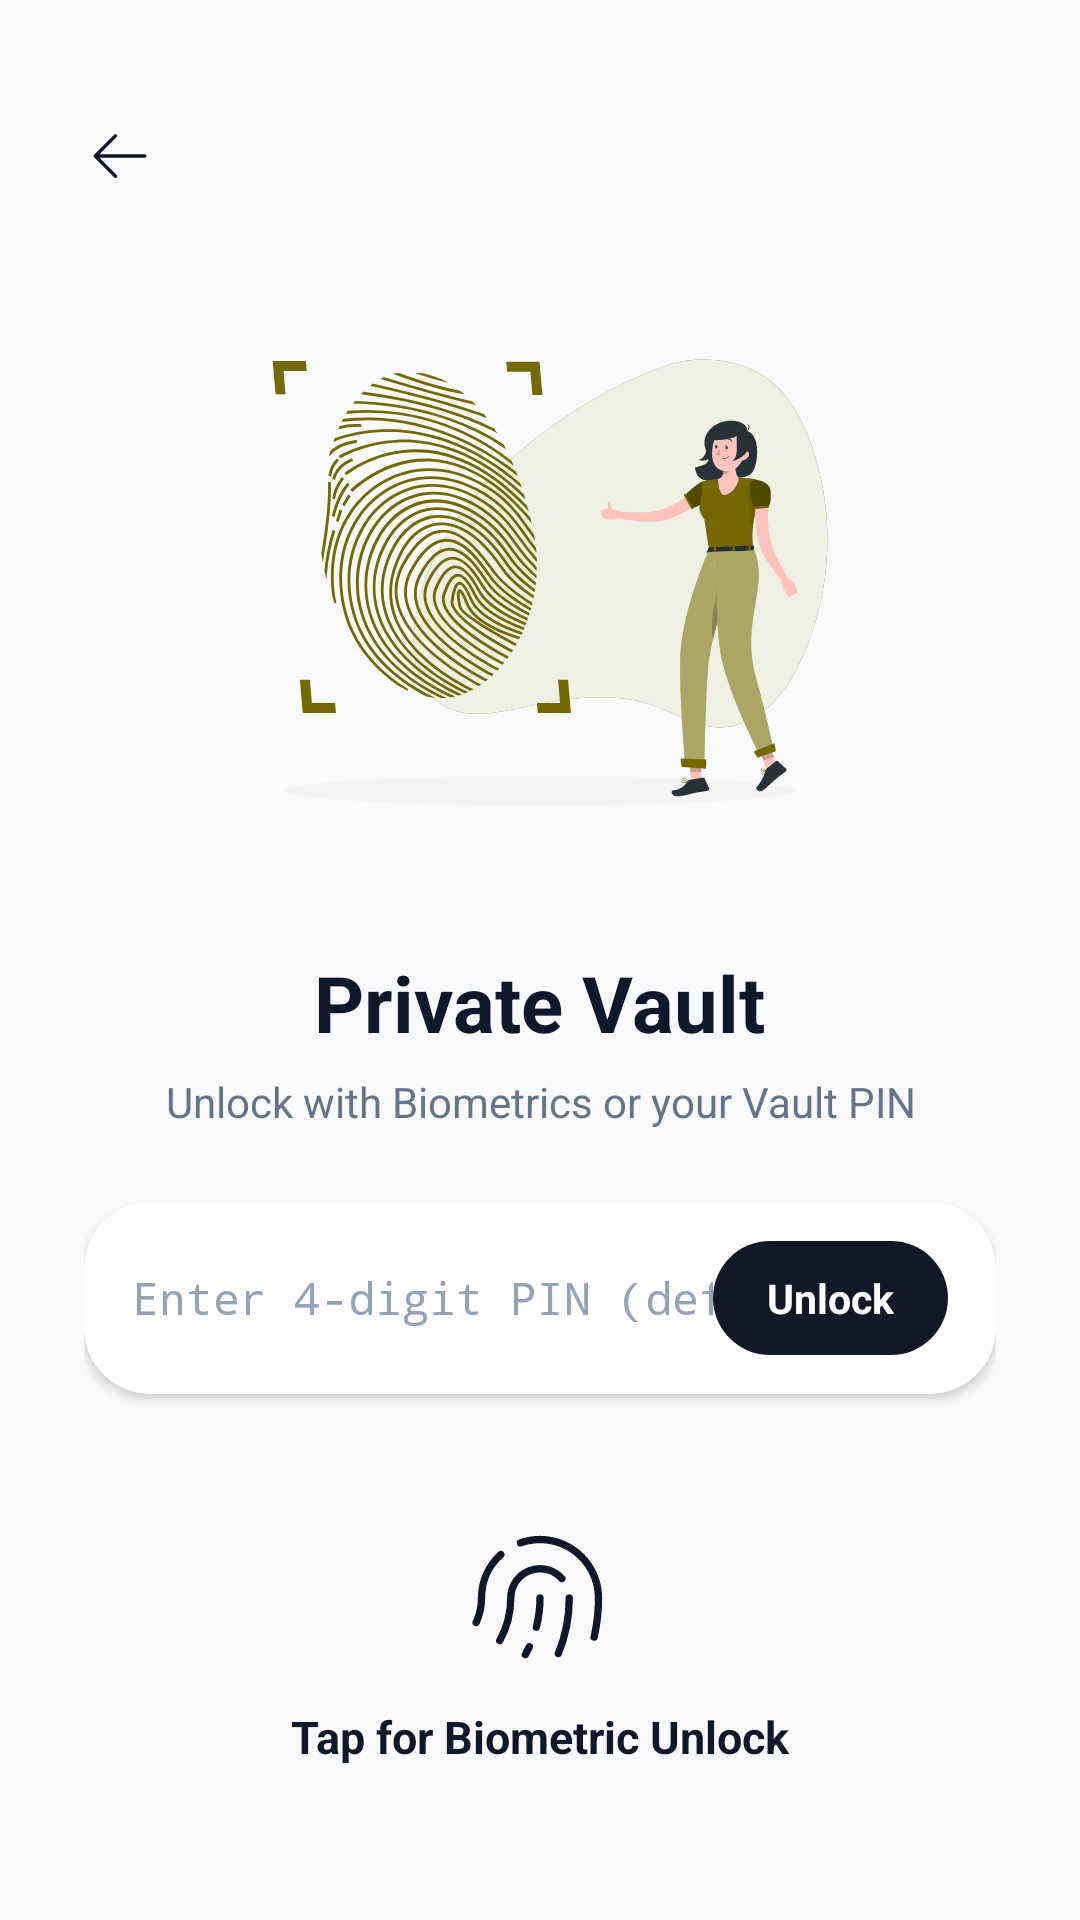

Named icons in this screenshot (1080×1920) and their bounding boxes, (x1, y1, x2, y2):
Back: (93, 134, 147, 178)
Fingerprint sensor: (472, 1535, 603, 1659)
